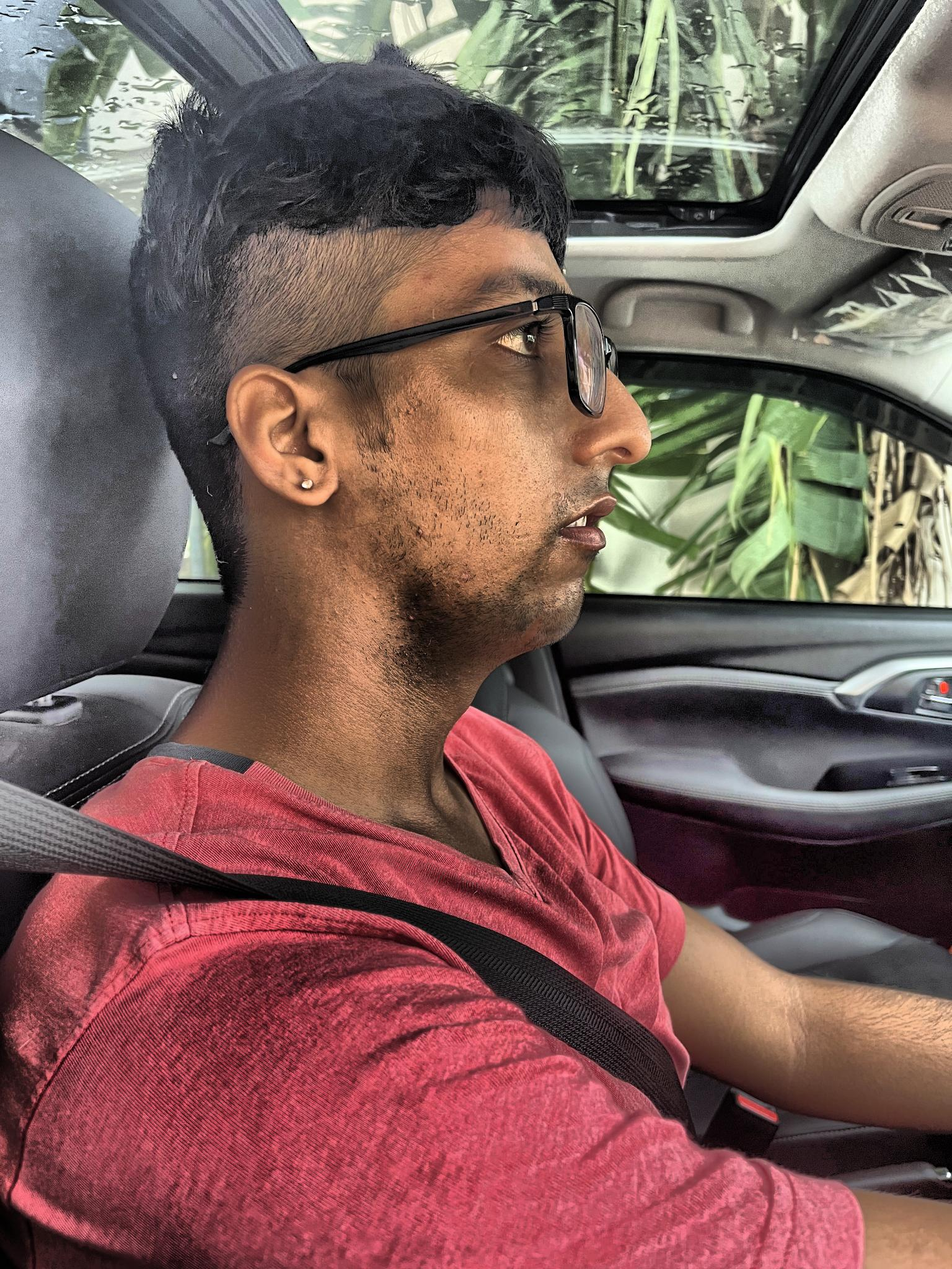seatbelt: (15, 692, 753, 1151)
